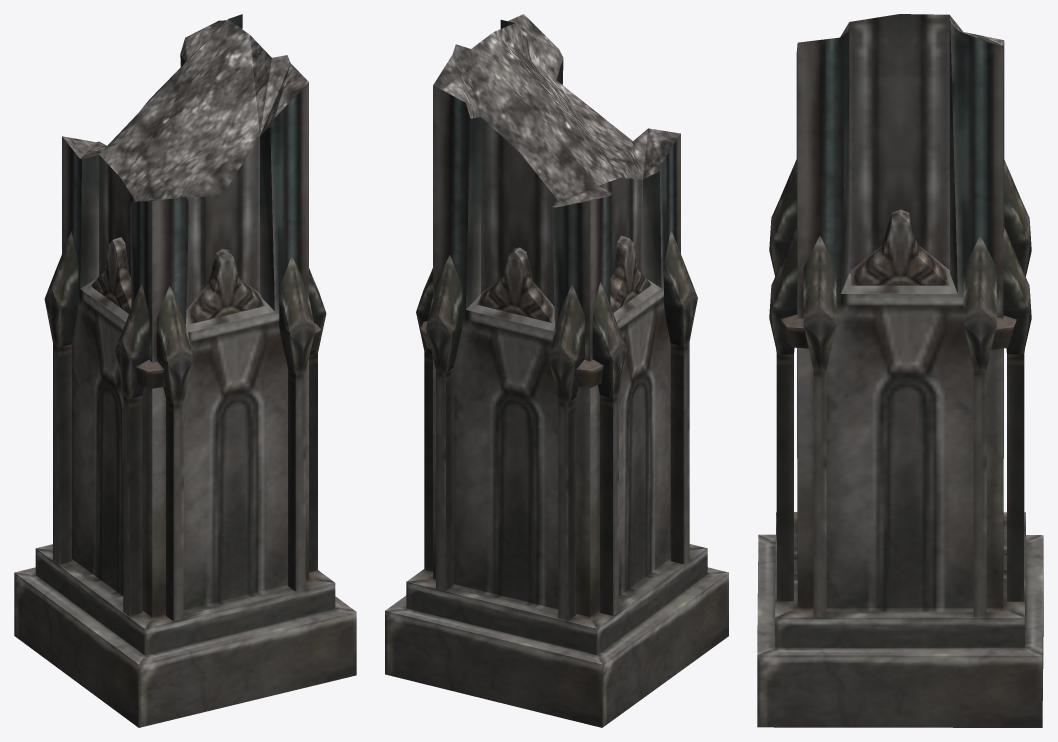
3 views of the same model, side by side, from view 1: azimuth 30°, elevation 25°; view 2: azimuth 150°, elevation 25°; view 3: azimuth 270°, elevation 25° (orthographic). The views are drawn at different scales.
Parts seen in each view (by area): view 1: object78; view 2: object78; view 3: object78.
Boxes of the visible parts, left/top/right/bottom form: object78: left=14, top=14, right=356, bottom=727; object78: left=385, top=14, right=728, bottom=727; object78: left=757, top=14, right=1043, bottom=727.
Bounding box in the file's own units: 113 × 299 × 113.
Materials: 2 (2 with a texture image).
